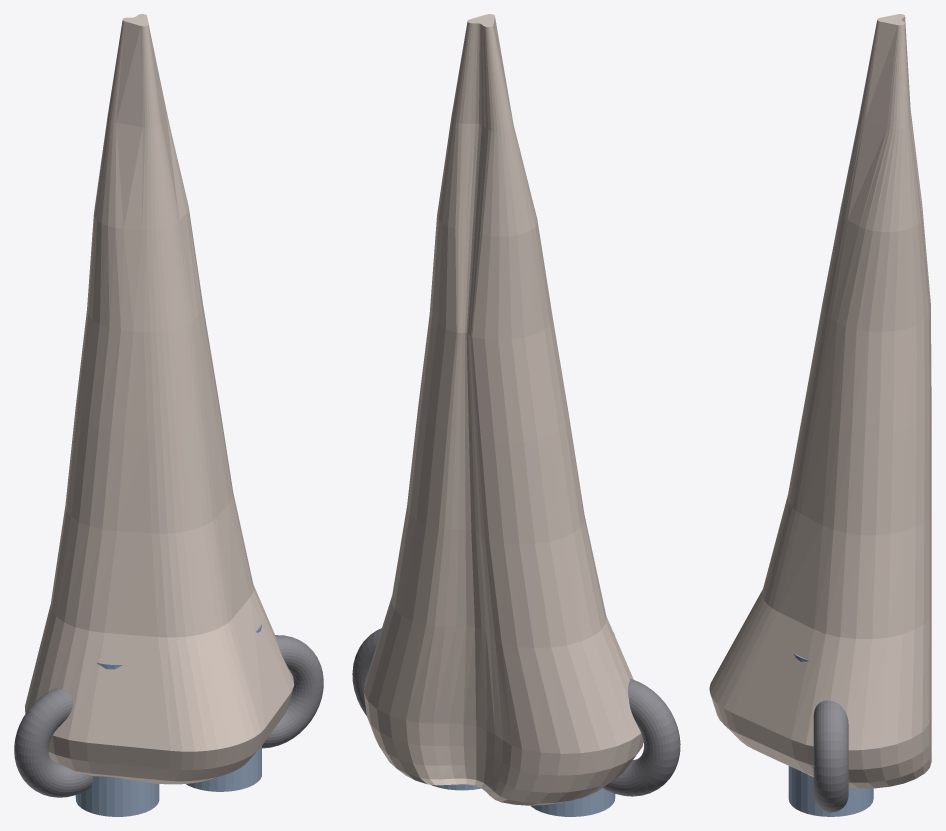
Rendered from candidate_balanced.glb.
The picture shows the model from 3 angles, left to right: view 1: azimuth 30°, elevation 25°; view 2: azimuth 150°, elevation 25°; view 3: azimuth 270°, elevation 25°; orthographic projection. The views are drawn at different scales.
Parts seen in each view (by area): view 1: body, frame_left, frame_right, plug_left, plug_right; view 2: body, frame_left, plug_left, frame_right; view 3: body, frame_right, plug_right.
Boxes of the visible parts, x1,y1,x2,y2 form: body: (25, 14, 294, 784); frame_left: (14, 688, 93, 797); frame_right: (262, 635, 323, 748); plug_left: (75, 663, 159, 816); plug_right: (186, 623, 261, 791); body: (364, 14, 643, 805); frame_left: (602, 679, 680, 796); plug_left: (531, 632, 615, 816); frame_right: (352, 628, 381, 715); body: (709, 14, 931, 788); frame_right: (813, 700, 848, 812); plug_right: (788, 653, 873, 816).
Bounding box in the file's own units: 25.23 × 58.8 × 15.7.
